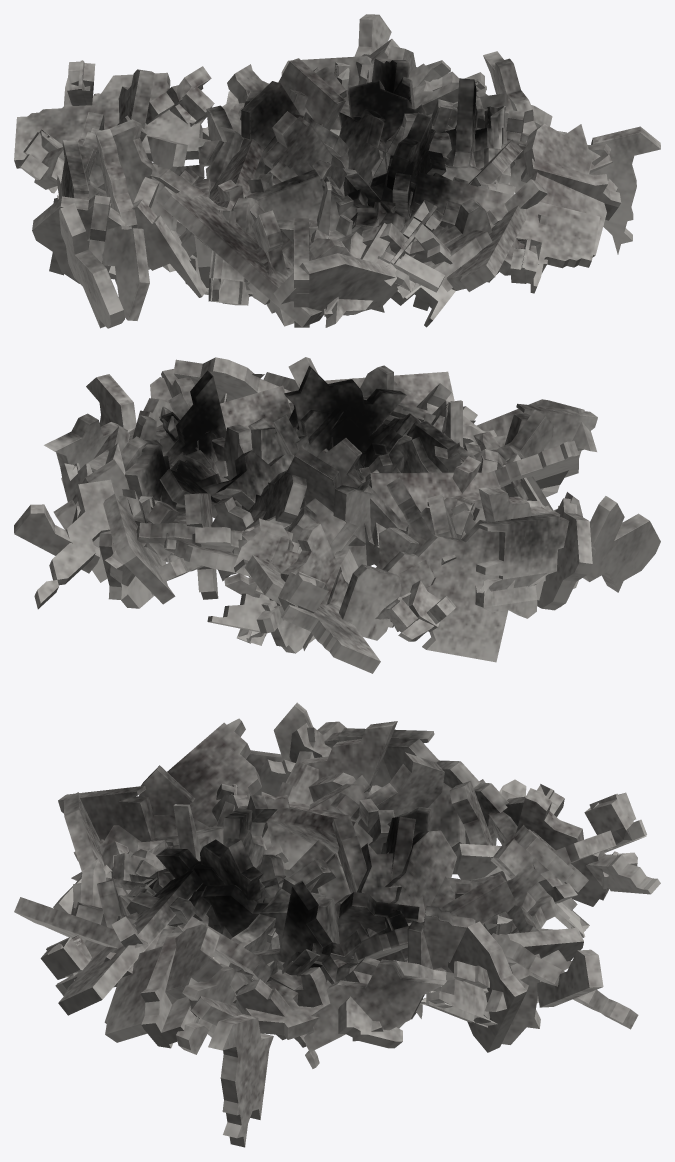
The model's file is stage1crack.fbx.
The picture shows the model from 3 angles, top to bottom: view 1: azimuth 30°, elevation 25°; view 2: azimuth 150°, elevation 25°; view 3: azimuth 270°, elevation 25°; orthographic projection. The views are drawn at different scales.
Parts seen in each view (by area): view 1: shop_body.124, shop_body.002, shop_body.123, shop_body.082, shop_body.073, shop_body.081, shop_body.037, shop_body.075, shop_body.117, shop_body.133, shop_body.005, shop_body.145 (+63 smaller); view 2: shop_body.140, shop_body.127, shop_body.002, shop_body.081, shop_body.003, shop_body.150, shop_body.039, shop_body.001, shop_body.044, shop_body.018, shop_body.041, shop_body.004 (+63 smaller); view 3: shop_body.124, shop_body.073, shop_body.076, shop_body.037, shop_body.123, shop_body.046, shop_body.003, shop_body.004, shop_body.006, shop_body.063, shop_body.136, shop_body.002 (+61 smaller).
Part boxes in pixels (box(x1,y1,x2,y2)): shop_body.124: box(410, 172, 600, 293); shop_body.002: box(14, 60, 210, 168); shop_body.123: box(155, 186, 323, 327); shop_body.082: box(273, 253, 399, 315); shop_body.073: box(524, 123, 606, 257); shop_body.081: box(59, 203, 124, 328); shop_body.037: box(589, 126, 660, 254); shop_body.075: box(87, 225, 149, 320); shop_body.117: box(441, 205, 528, 291); shop_body.133: box(131, 199, 207, 297); shop_body.005: box(247, 111, 332, 195); shop_body.145: box(244, 169, 323, 220); shop_body.140: box(382, 520, 526, 662); shop_body.127: box(475, 513, 569, 618); shop_body.002: box(244, 555, 380, 673); shop_body.081: box(583, 496, 660, 592); shop_body.003: box(99, 444, 166, 608); shop_body.150: box(34, 479, 114, 609); shop_body.039: box(261, 522, 347, 653); shop_body.001: box(537, 498, 592, 610); shop_body.044: box(339, 564, 401, 640); shop_body.018: box(365, 472, 500, 549); shop_body.041: box(103, 493, 175, 604); shop_body.004: box(234, 518, 341, 650); shop_body.124: box(40, 865, 203, 1015); shop_body.073: box(104, 924, 222, 1042); shop_body.076: box(304, 959, 446, 1068); shop_body.037: box(208, 1014, 273, 1147); shop_body.123: box(73, 718, 261, 861); shop_body.046: box(448, 921, 526, 1052); shop_body.003: box(423, 905, 540, 1044); shop_body.004: box(489, 825, 589, 937); shop_body.006: box(393, 960, 497, 1027); shop_body.063: box(58, 786, 179, 868); shop_body.136: box(365, 830, 456, 937); shop_body.002: box(488, 792, 646, 880).
Size of the model in its own units: 1049 by 331 by 961.
Materials: 1 (1 with a texture image).
